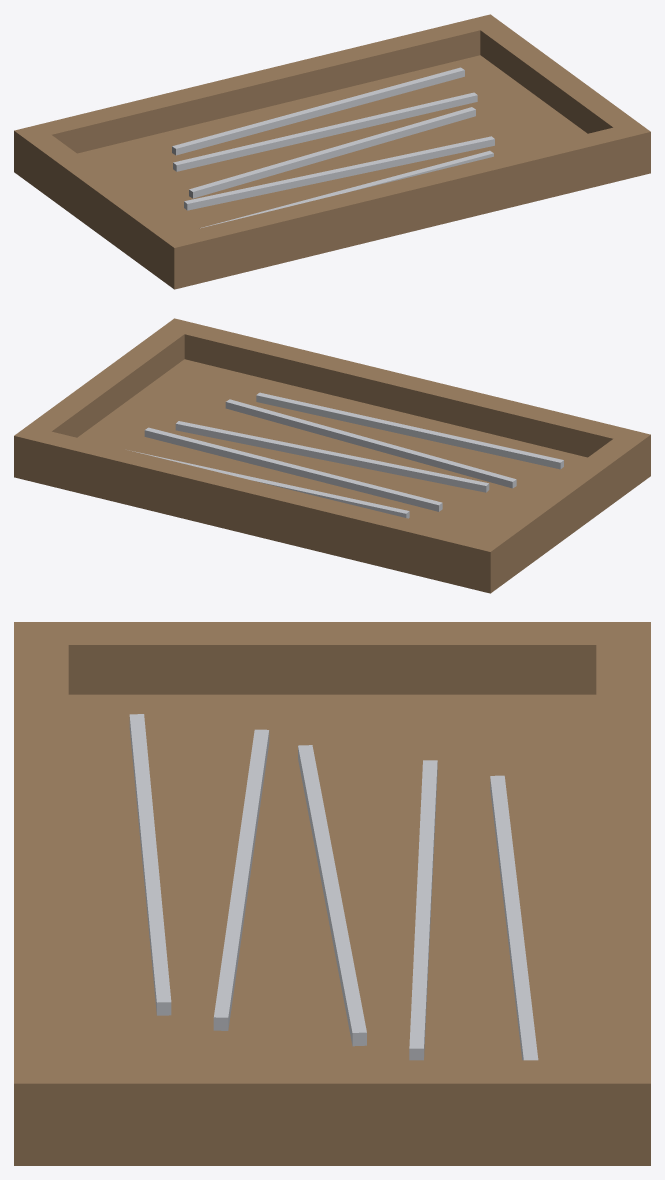
The model's file is prop-needle-blank-tray.fbx.
3 renders of one model, top to bottom at view 1: azimuth 30°, elevation 25°; view 2: azimuth 150°, elevation 25°; view 3: azimuth 270°, elevation 25°, orthographic. The views are drawn at different scales.
Visible parts, largest first — view 1: prop-needle-blank-tray; view 2: prop-needle-blank-tray; view 3: prop-needle-blank-tray.
Boxes of the visible parts, bbox=[...] form: prop-needle-blank-tray: bbox=[14, 14, 650, 289]; prop-needle-blank-tray: bbox=[14, 318, 650, 593]; prop-needle-blank-tray: bbox=[14, 622, 650, 1165].
Bounding box in the file's own units: 12 × 1 × 7.
